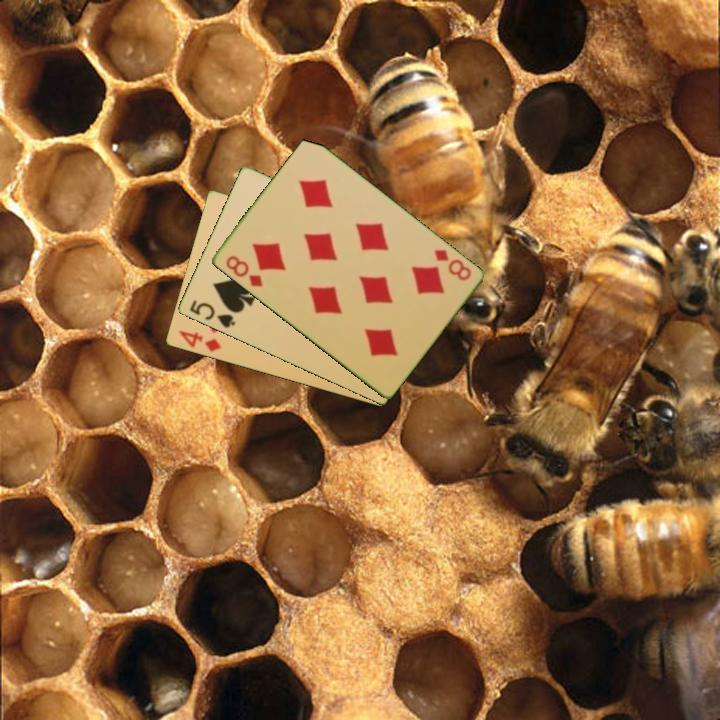4d: (175, 327, 224, 355)
5s: (185, 297, 238, 331)
8d: (430, 246, 474, 284), (222, 252, 265, 290)
